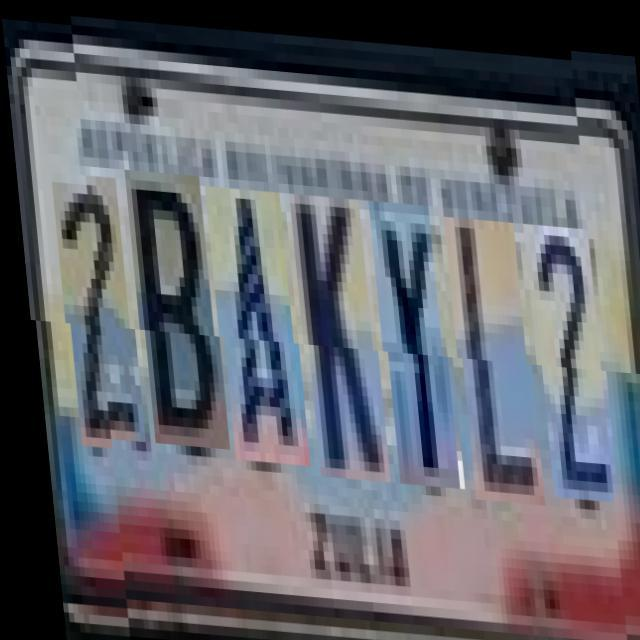2: (525, 215, 610, 492), (53, 172, 137, 440)
A: (206, 183, 301, 461)
B: (126, 168, 222, 446)
K: (290, 189, 382, 476)
L: (445, 209, 536, 496)
Y: (370, 194, 456, 481)
